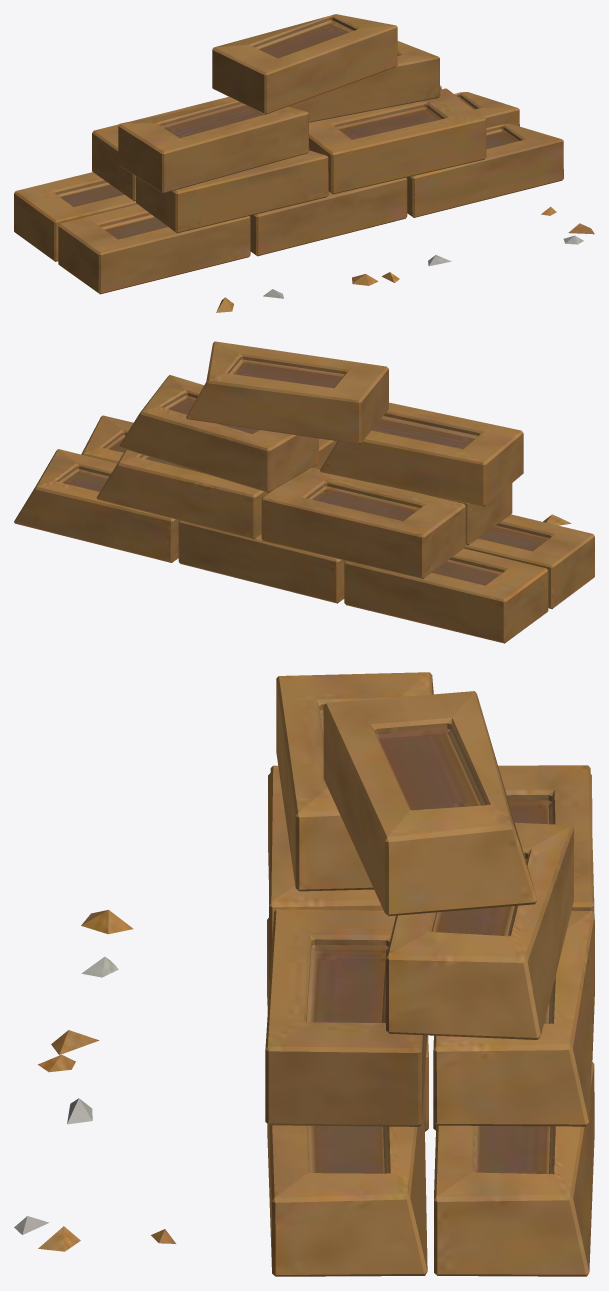
Rendered from D19_brick_pile_v1.glb.
3 views of the same model, one above another, from view 1: azimuth 30°, elevation 25°; view 2: azimuth 150°, elevation 25°; view 3: azimuth 270°, elevation 25° (orthographic). The views are drawn at different scales.
Parts seen in each view (by area): view 1: Lower brick; view 2: Lower brick; view 3: Lower brick.
Part boxes in pixels (x1=…): Lower brick: x1=14, y1=14, x2=594, y2=312; Lower brick: x1=14, y1=341, x2=594, y2=643; Lower brick: x1=14, y1=672, x2=594, y2=1276.
Bounding box in the file's own units: 0.8 × 0.2728 × 0.4574.
Materials: 3 (3 with a texture image).
